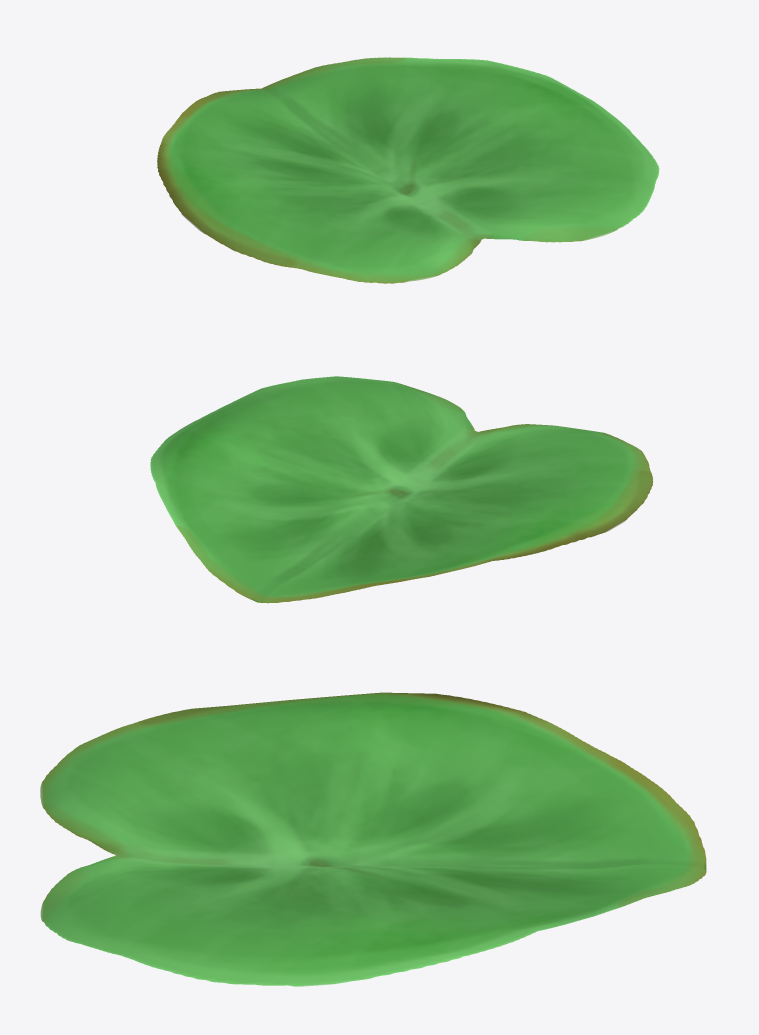
The model's file is LillyPad1.fbx.
The picture shows the model from 3 angles, top to bottom: view 1: azimuth 30°, elevation 25°; view 2: azimuth 150°, elevation 25°; view 3: azimuth 270°, elevation 25°; orthographic projection. The views are drawn at different scales.
Parts seen in each view (by area): view 1: LillyPad1; view 2: LillyPad1; view 3: LillyPad1.
Boxes of the visible parts, x1,y1,x2,y2 form: LillyPad1: (157,57,659,283); LillyPad1: (150,376,653,603); LillyPad1: (40,692,706,986).
Size of the model in its own units: 12.3 by 1.07 by 12.53.
